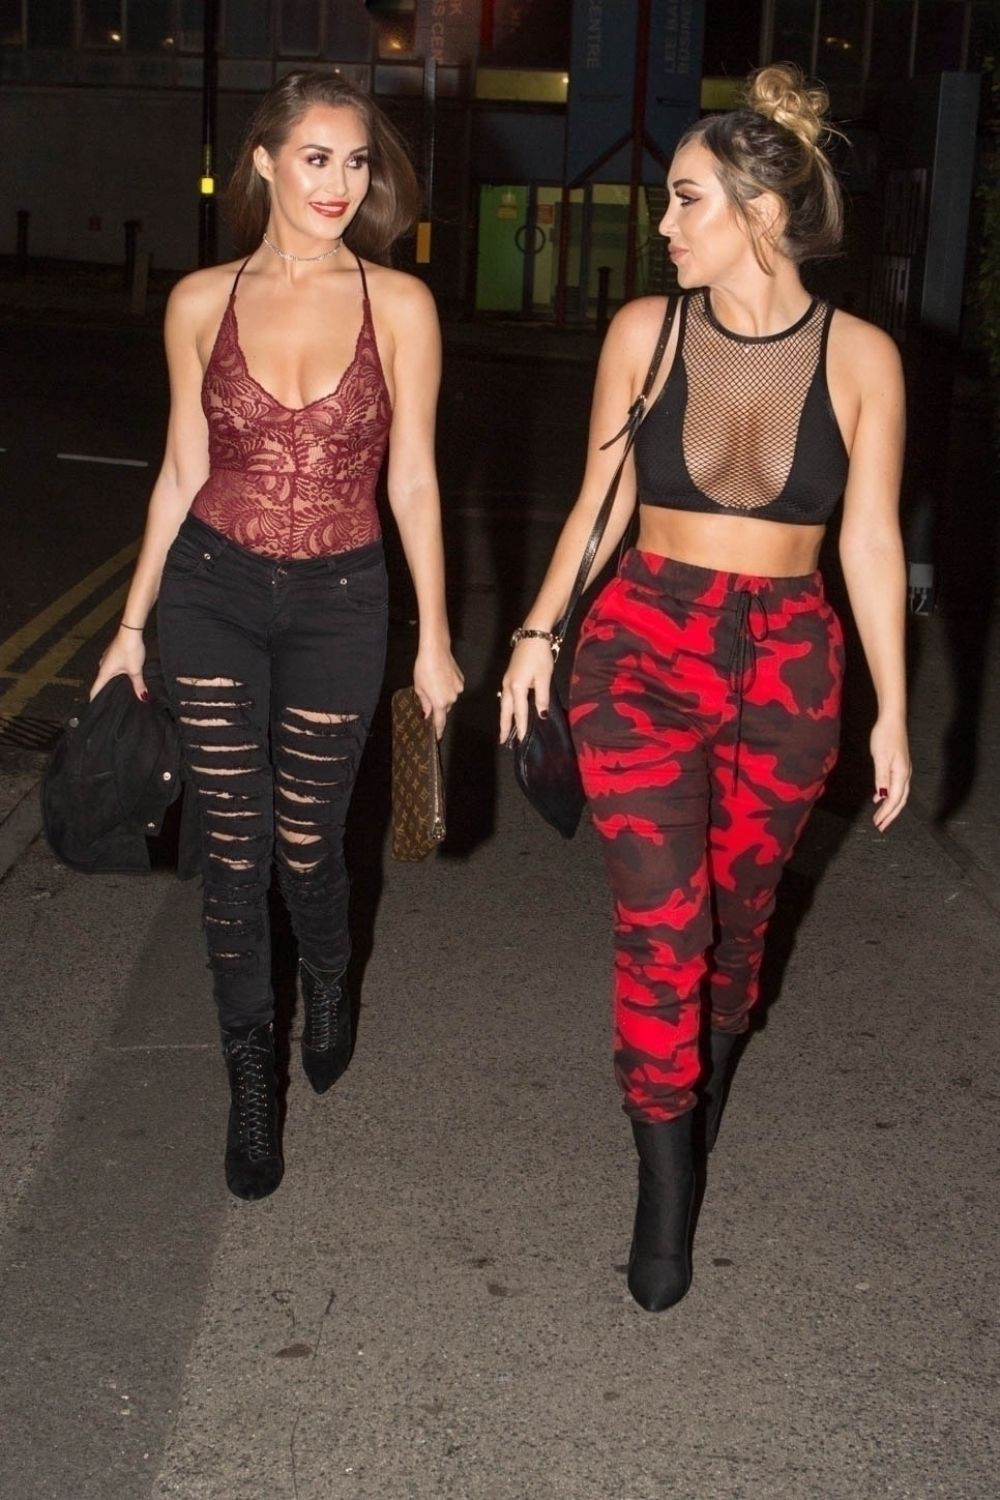Person: (491, 106, 928, 1360), (67, 50, 496, 1201)
